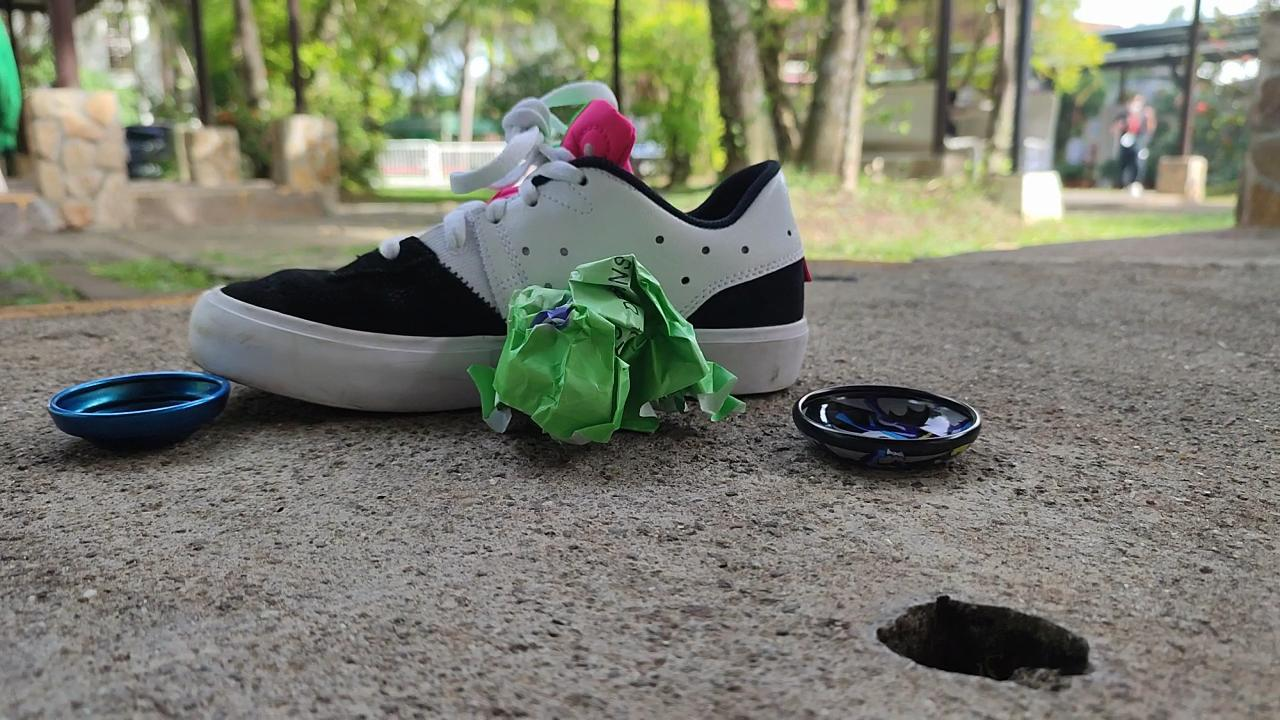Paper: (449, 237, 759, 467)
